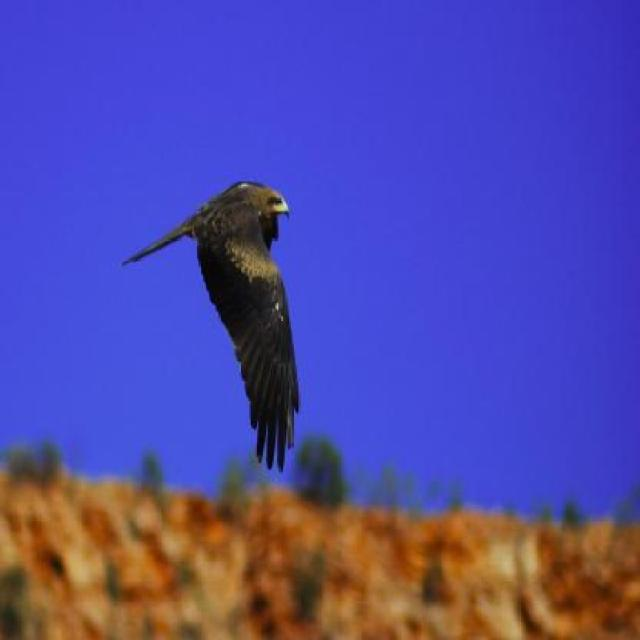Eagle: (121, 175, 303, 474)
